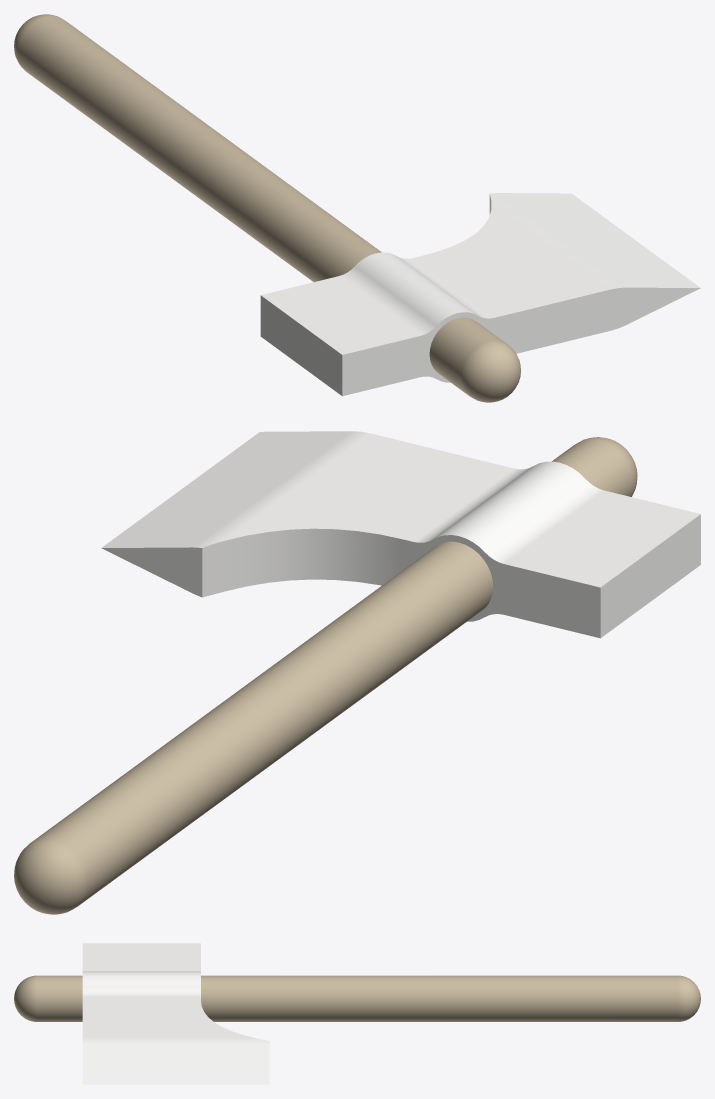
The model's file is asset.glb.
3 renders of one model, top to bottom at view 1: azimuth 30°, elevation 25°; view 2: azimuth 150°, elevation 25°; view 3: azimuth 270°, elevation 25°, orthographic. The views are drawn at different scales.
Visible parts, largest first — view 1: Body2, Body1; view 2: Body2, Body1; view 3: Body1, Body2.
Part boxes in pixels (x1,y1,x2,y2): Body2: [260, 193, 700, 396]; Body1: [14, 14, 520, 402]; Body2: [101, 431, 700, 638]; Body1: [14, 437, 637, 914]; Body1: [14, 975, 700, 1021]; Body2: [82, 943, 269, 1084].
Size of the model in its own units: 0.218 by 0.04 by 0.5.
